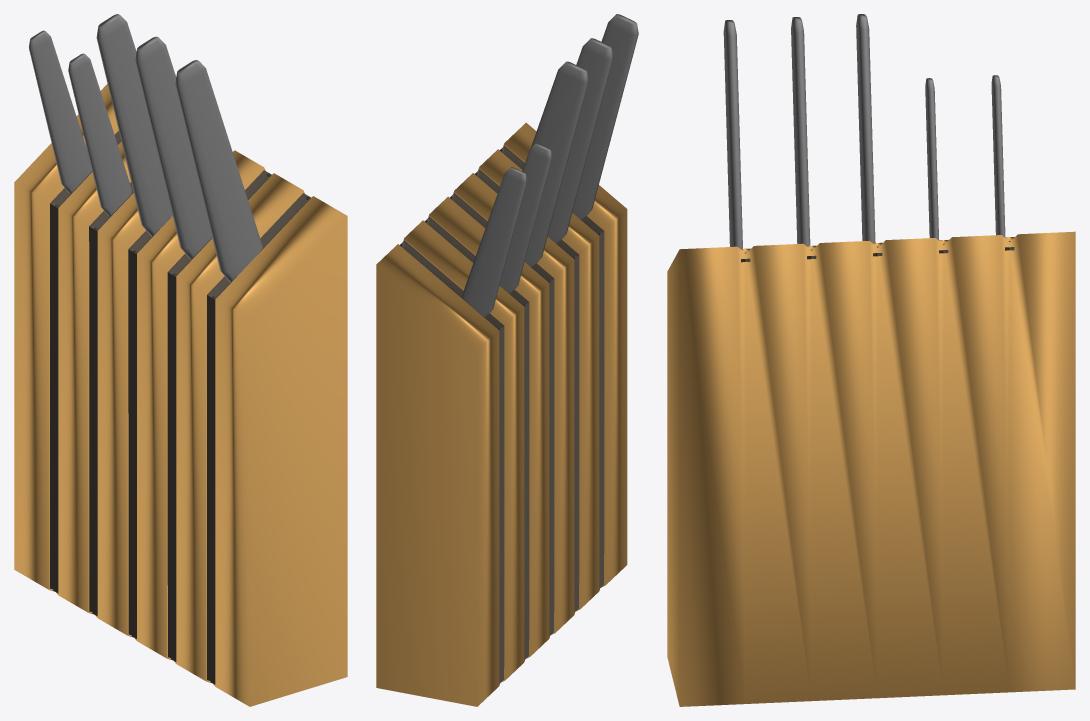
The model's file is knives.fbx.
3 renders of one model, left to right at view 1: azimuth 30°, elevation 25°; view 2: azimuth 150°, elevation 25°; view 3: azimuth 270°, elevation 25°, orthographic. The views are drawn at different scales.
Parts seen in each view (by area): view 1: knives; view 2: knives; view 3: knives.
Part boxes in pixels (x1,y1,x2,y2): knives: (14,14,347,706); knives: (376,14,638,706); knives: (667,14,1075,706).
Bounding box in the file's own units: 123 × 465 × 276.
